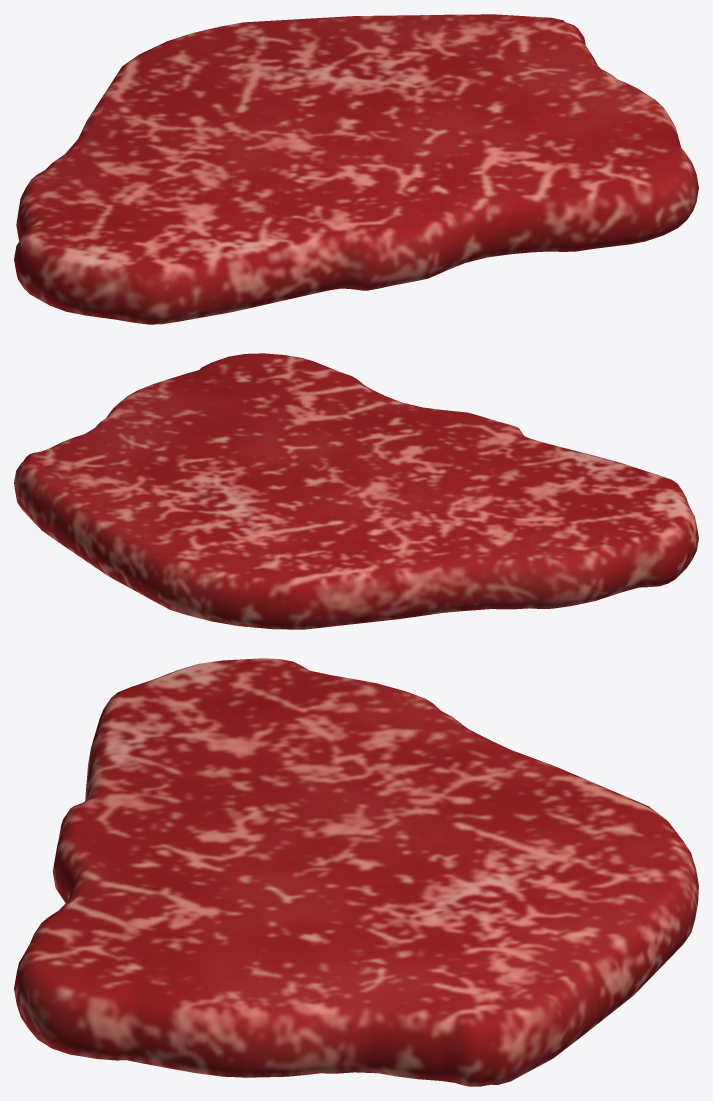
The model's file is meat.fbx.
3 views of the same model, one above another, from view 1: azimuth 30°, elevation 25°; view 2: azimuth 150°, elevation 25°; view 3: azimuth 270°, elevation 25° (orthographic). The views are drawn at different scales.
Parts seen in each view (by area): view 1: meat; view 2: meat; view 3: meat.
Boxes of the visible parts, x1,y1,x2,y2 form: meat: [14, 14, 698, 324]; meat: [14, 353, 698, 629]; meat: [14, 658, 698, 1086].
Size of the model in its own units: 20.28 by 1.67 by 15.47.
